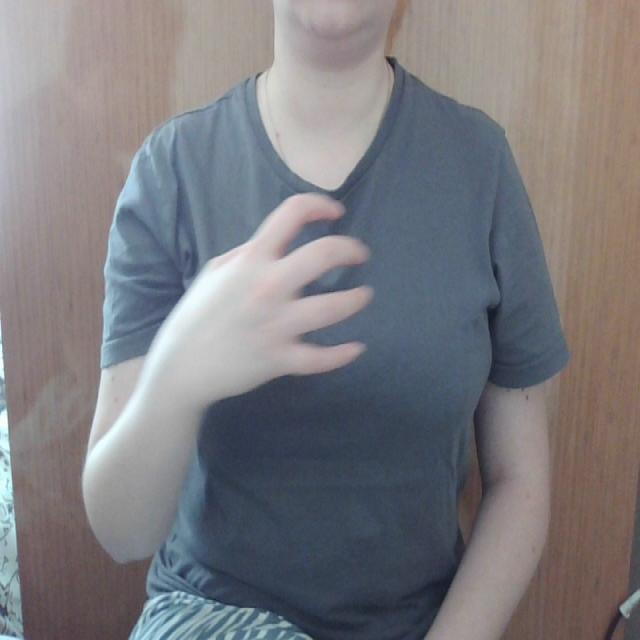Anne: (126, 186, 530, 427)
